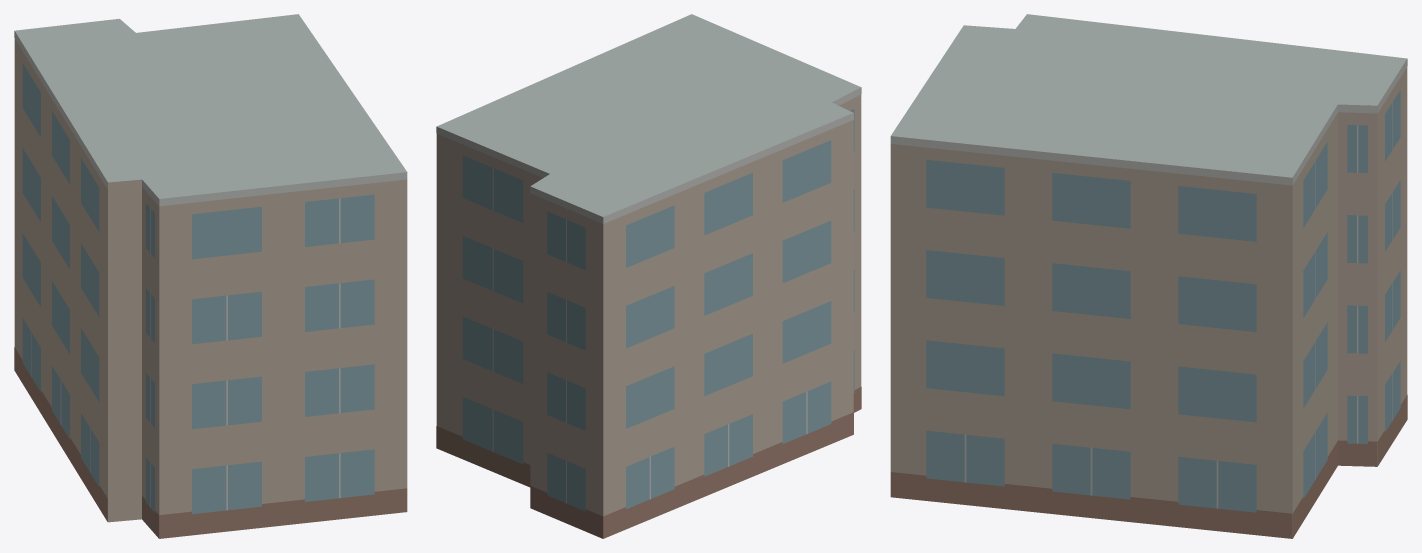
File: survey-upis-32987409.glb
3 renders of one model, left to right at view 1: azimuth 30°, elevation 25°; view 2: azimuth 150°, elevation 25°; view 3: azimuth 270°, elevation 25°, orthographic. The views are drawn at different scales.
Parts seen in each view (by area): view 1: survey-upis-32987409.tmp; view 2: survey-upis-32987409.tmp; view 3: survey-upis-32987409.tmp.
Boxes of the visible parts, bbox=[...] form: survey-upis-32987409.tmp: bbox=[14, 14, 407, 538]; survey-upis-32987409.tmp: bbox=[436, 14, 861, 538]; survey-upis-32987409.tmp: bbox=[890, 14, 1407, 538].
Size of the model in its own units: 11 by 11.3 by 14.67.
